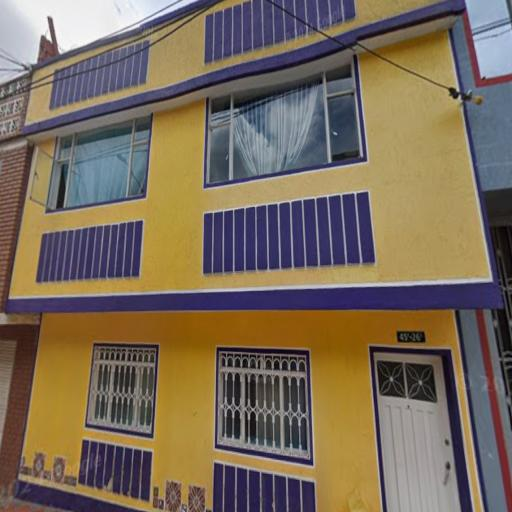Casa: (5, 0, 503, 511)
